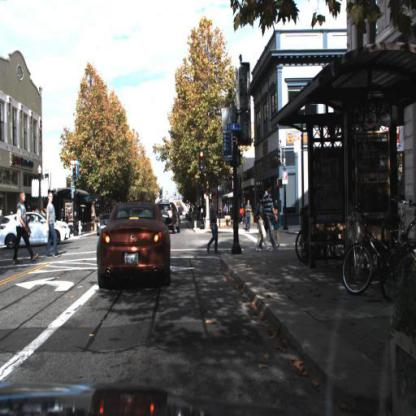car: (97, 201, 172, 290), (1, 209, 73, 252), (157, 200, 184, 234), (159, 201, 179, 235)
pedestrian: (13, 191, 38, 266), (44, 185, 63, 261), (263, 185, 279, 249), (262, 183, 277, 249), (208, 190, 221, 257), (256, 190, 269, 252), (19, 209, 28, 233), (246, 199, 252, 231)
trafficLight-Red: (200, 149, 206, 172), (73, 163, 79, 180)
